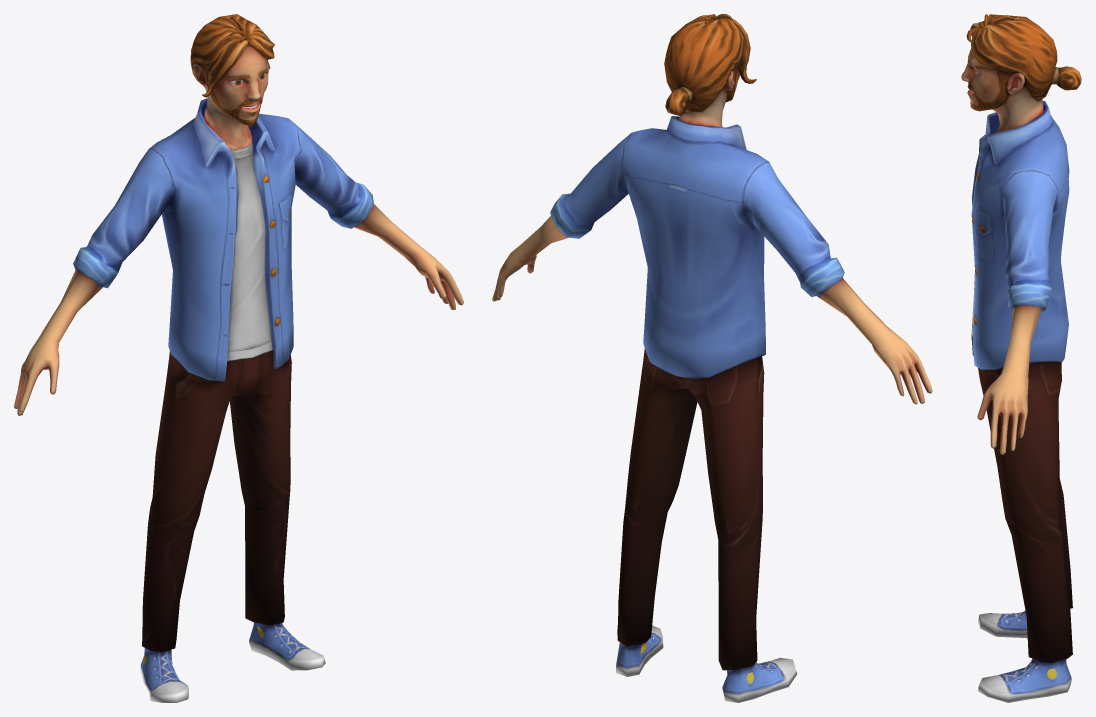
File: g_r_character.fbx
The picture shows the model from 3 angles, left to right: view 1: azimuth 30°, elevation 25°; view 2: azimuth 150°, elevation 25°; view 3: azimuth 270°, elevation 25°; orthographic projection. The views are drawn at different scales.
Visible parts, largest first — view 1: Rupert.001; view 2: Rupert.001; view 3: Rupert.001.
Boxes of the visible parts, x1=… form: Rupert.001: x1=14, y1=14, x2=463, y2=702; Rupert.001: x1=492, y1=14, x2=932, y2=702; Rupert.001: x1=961, y1=14, x2=1081, y2=702.
Bounding box in the file's own units: 1266 × 1808 × 305.
